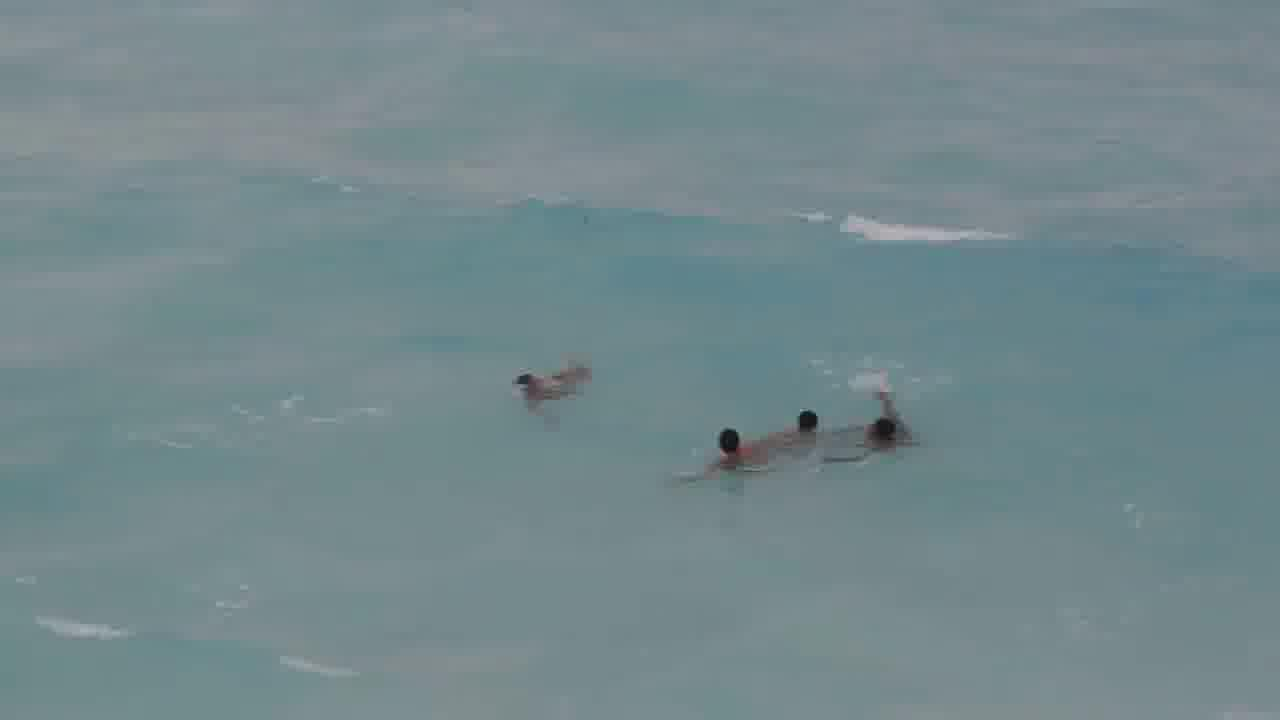swimmer: (670, 422, 770, 482), (500, 356, 590, 413), (820, 414, 916, 466), (765, 405, 840, 444)
